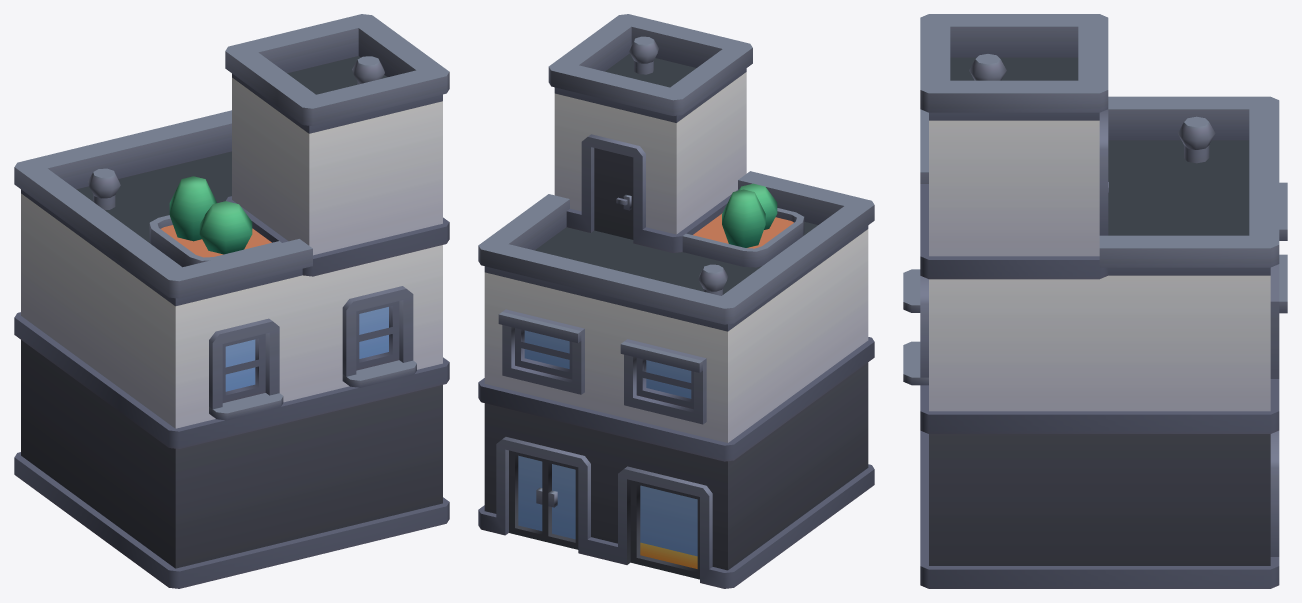
The model's file is building-d.glb.
The picture shows the model from 3 angles, left to right: view 1: azimuth 30°, elevation 25°; view 2: azimuth 150°, elevation 25°; view 3: azimuth 270°, elevation 25°; orthographic projection. The views are drawn at different scales.
Visible parts, largest first — view 1: building-d; view 2: building-d; view 3: building-d.
Boxes of the visible parts, x1,y1,x2,y2 form: building-d: (14, 14, 449, 588); building-d: (478, 14, 874, 588); building-d: (903, 14, 1287, 588).
Size of the model in its own units: 0.84 by 1.29 by 0.8999.
1 material, 1 textured.
